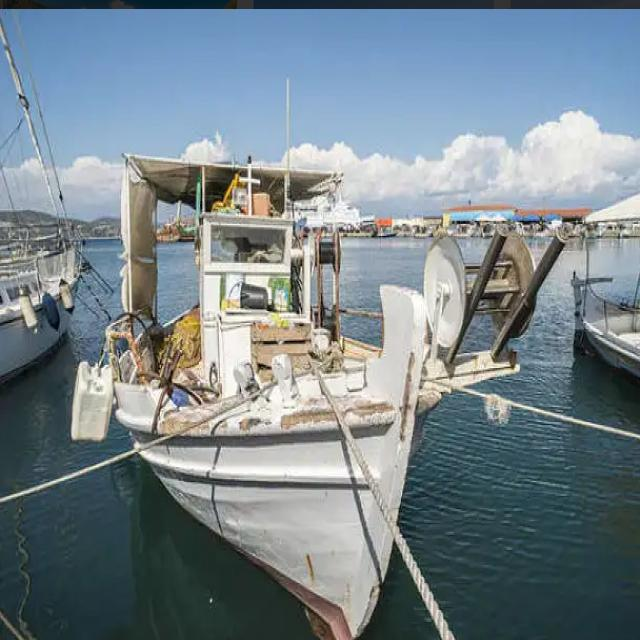fishing boat: (74, 142, 472, 632)
